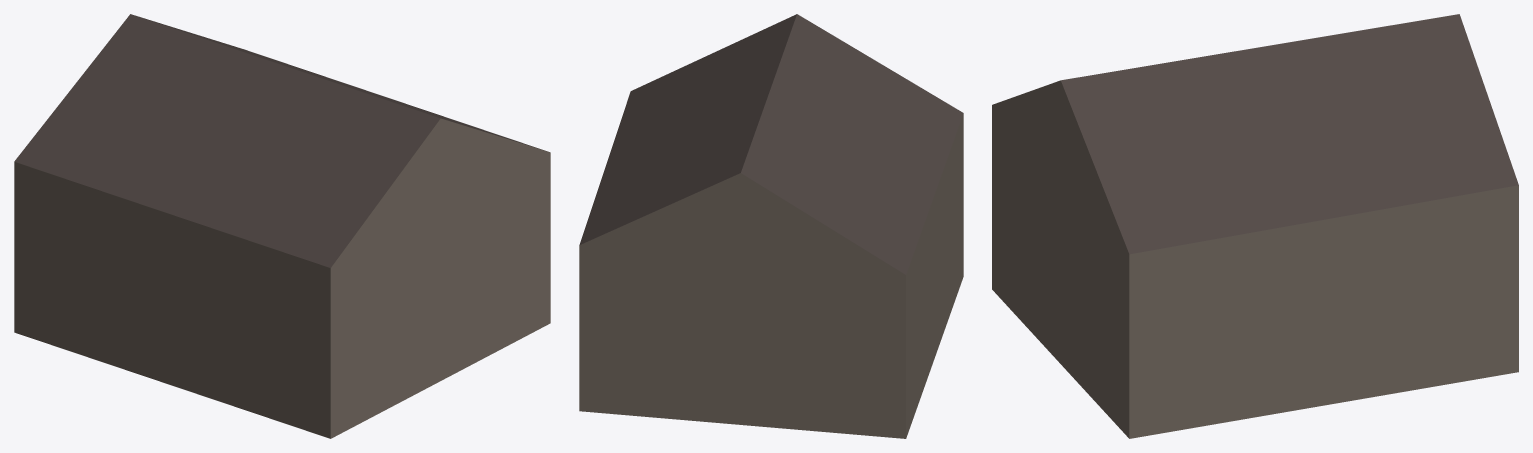
The picture shows the model from 3 angles, left to right: view 1: azimuth 30°, elevation 25°; view 2: azimuth 150°, elevation 25°; view 3: azimuth 270°, elevation 25°; orthographic projection. The views are drawn at different scales.
Visible parts, largest first — view 1: HP-w525387327; view 2: HP-w525387327; view 3: HP-w525387327.
Part boxes in pixels (left/top/right/bottom): HP-w525387327: left=14, top=14, right=550, bottom=438; HP-w525387327: left=579, top=14, right=963, bottom=438; HP-w525387327: left=992, top=14, right=1518, bottom=438.
Size of the model in its own units: 15.14 by 9.23 by 15.52.
